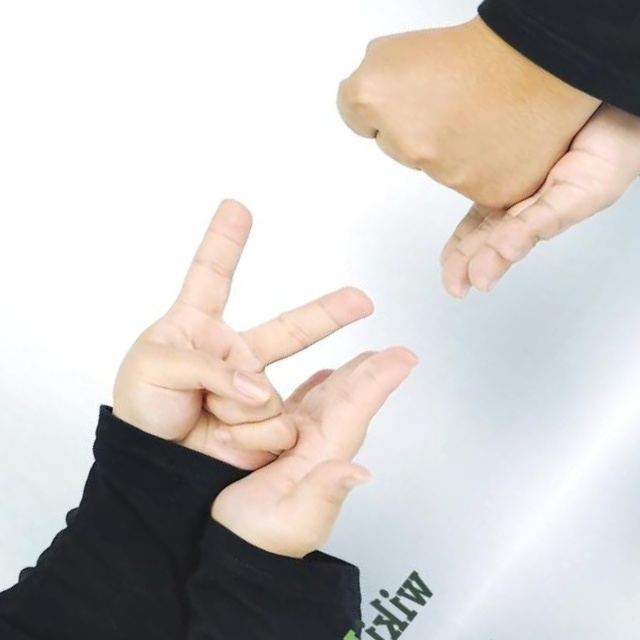Rock: (76, 184, 402, 514)
Scissors: (0, 610, 62, 640)
